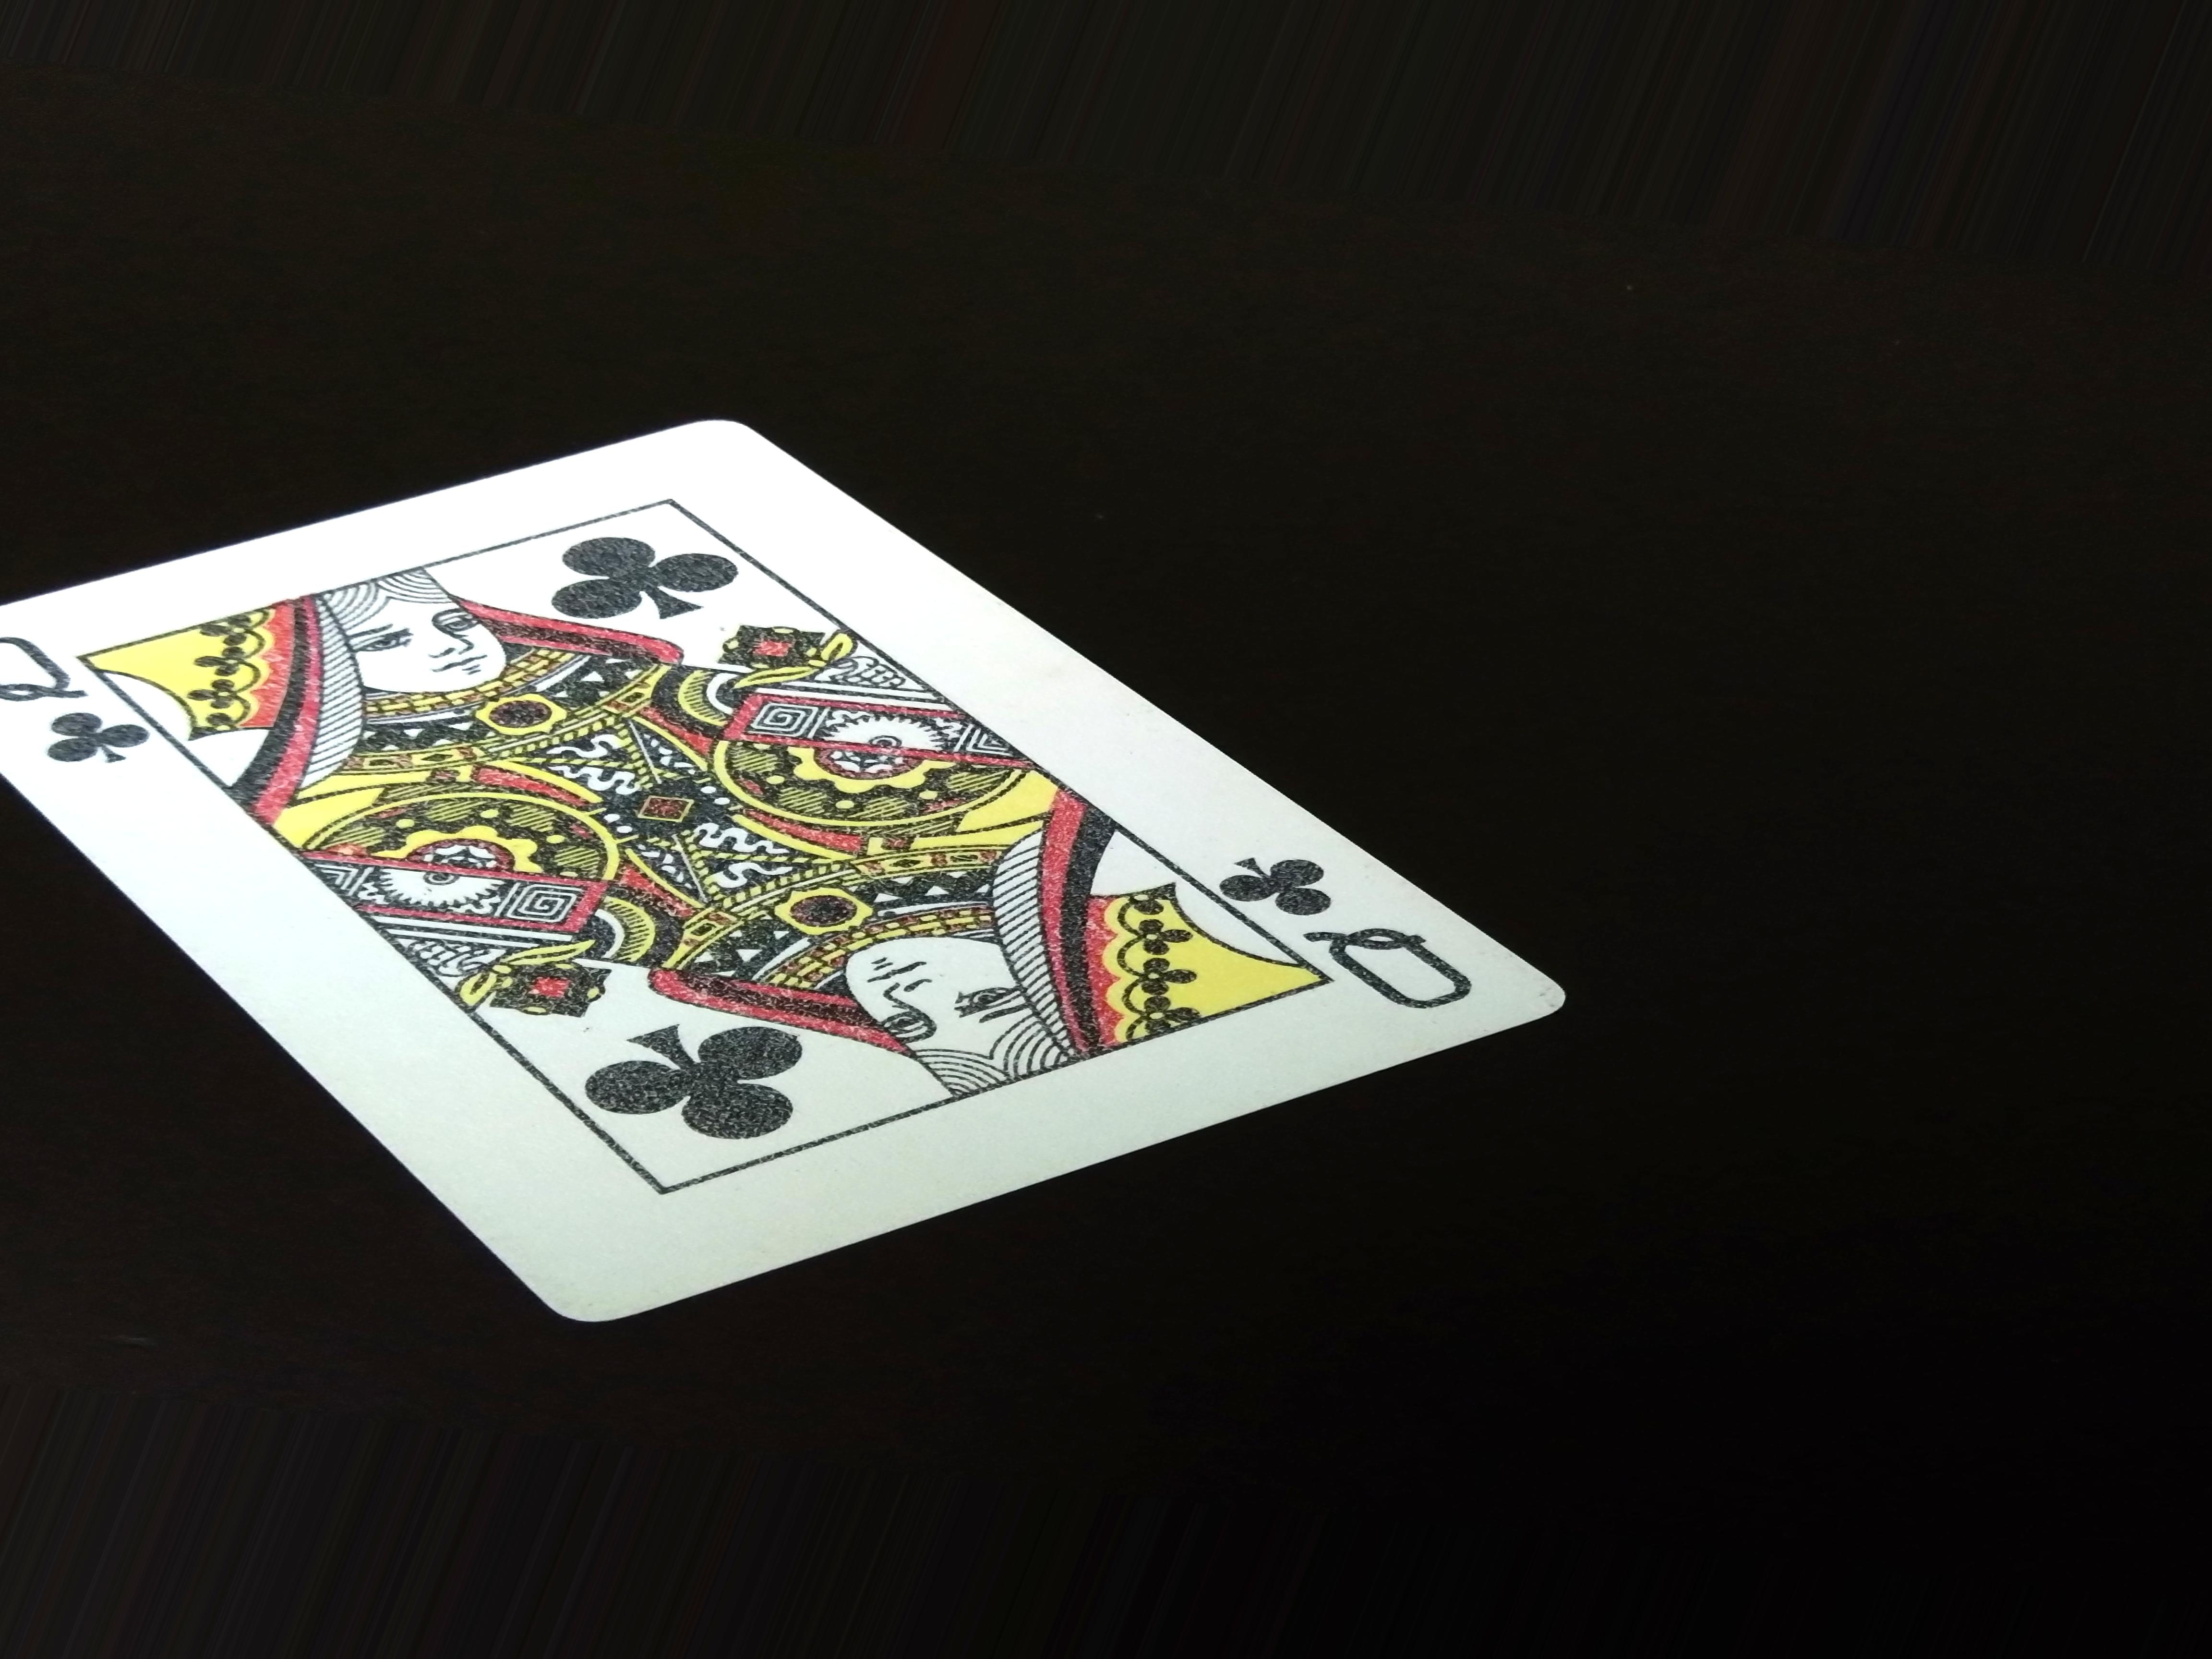QC: (1224, 842, 1484, 1019)
